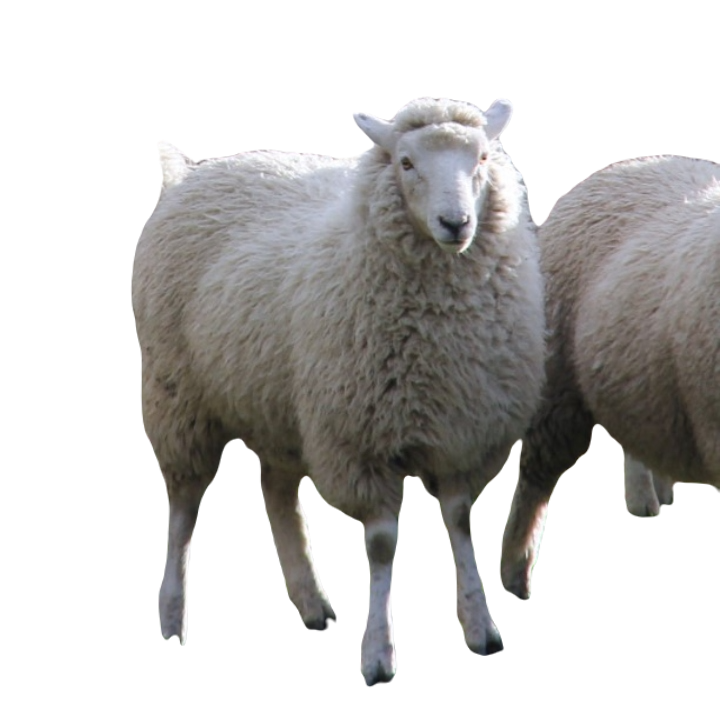Sheep: (124, 90, 554, 691)
